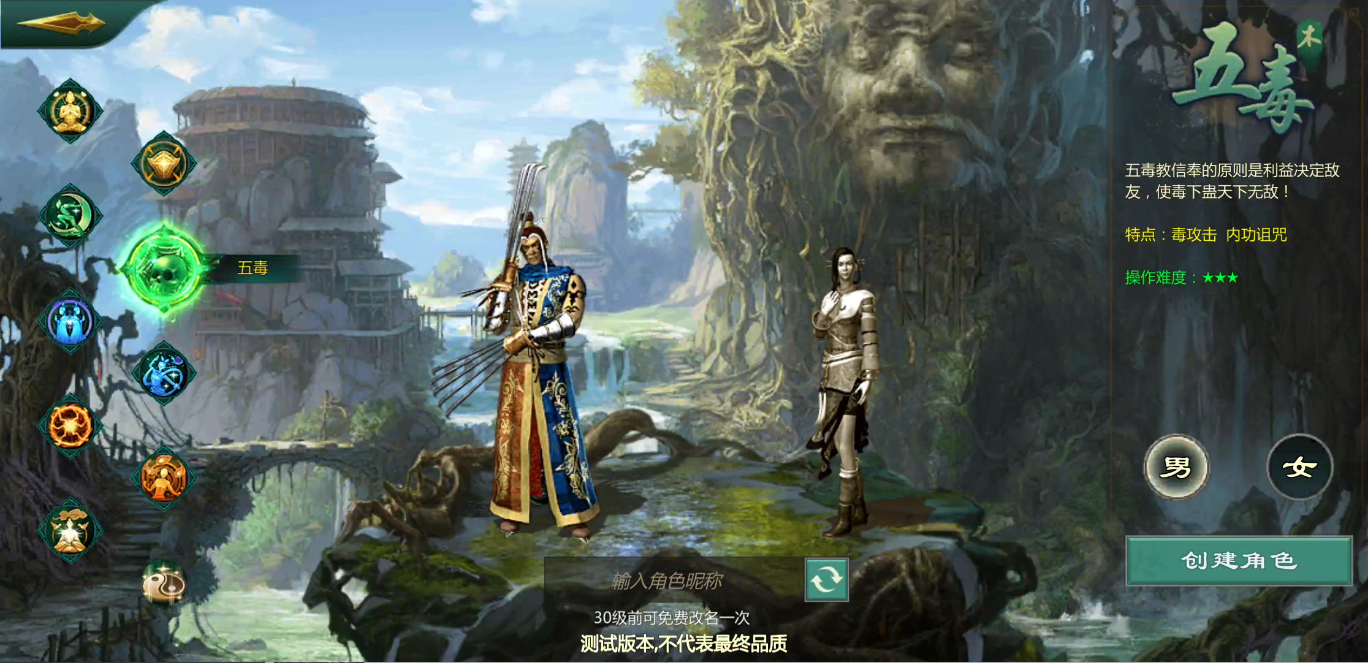cuiyan: (129, 337, 199, 414)
emei: (31, 282, 106, 362)
gaibang: (34, 392, 108, 462)
kunlun: (126, 549, 203, 627)
name: (806, 562, 848, 602)
shaolin: (36, 75, 108, 145)
tangmen: (33, 182, 106, 255)
tianren: (123, 442, 203, 517)
tianwang: (129, 127, 199, 200)
wudang: (34, 494, 108, 572)
